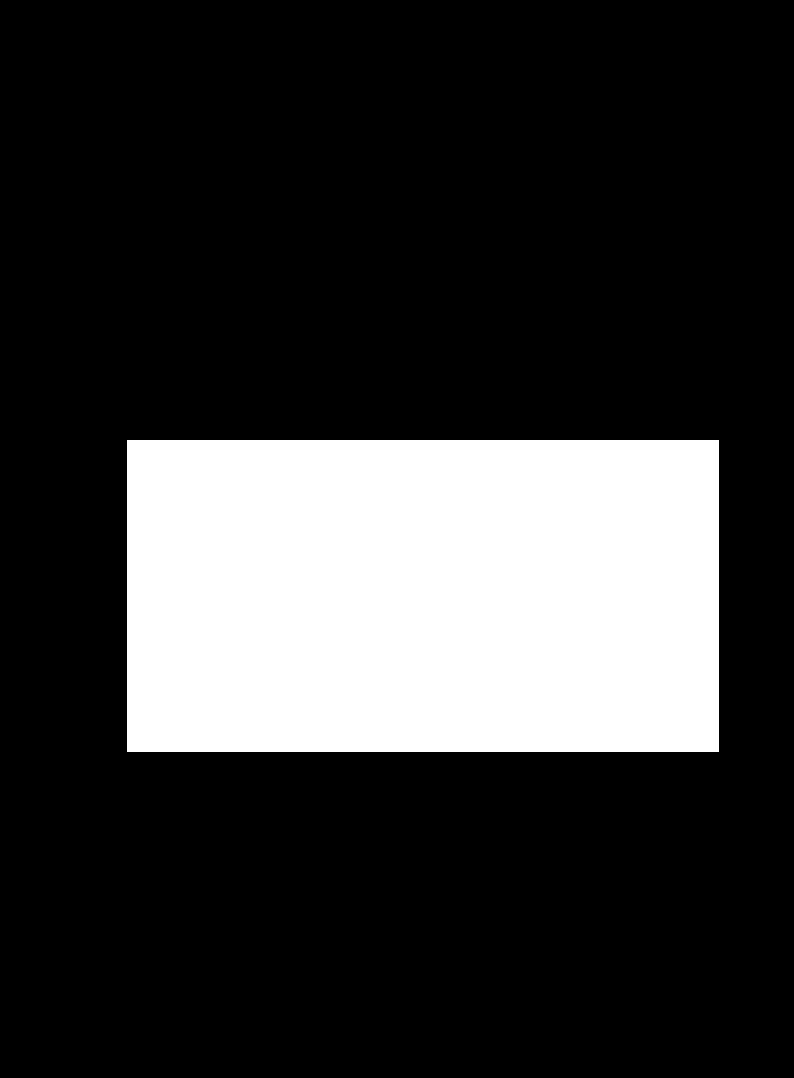table: (127, 440, 718, 751)
